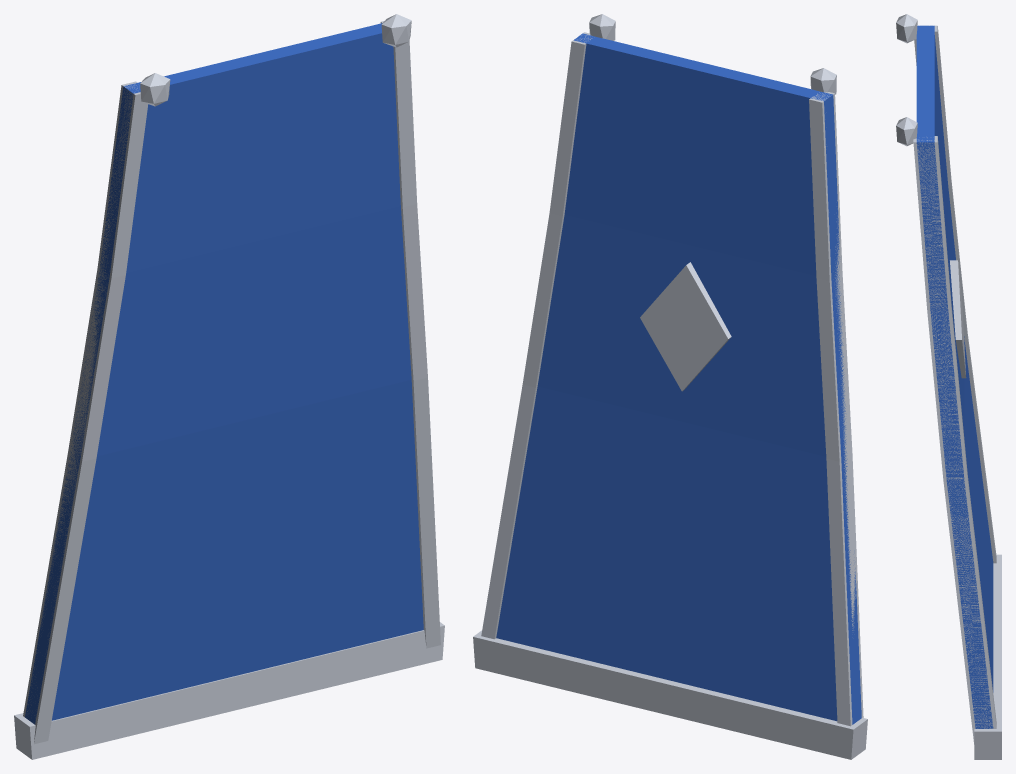
The model's file is gear_cape_defence.glb.
3 renders of one model, left to right at view 1: azimuth 30°, elevation 25°; view 2: azimuth 150°, elevation 25°; view 3: azimuth 270°, elevation 25°, orthographic. The views are drawn at different scales.
Parts seen in each view (by area): view 1: gear_cape_defence; view 2: gear_cape_defence; view 3: gear_cape_defence.
Boxes of the visible parts, box(x1,y1,x2,y2) form: gear_cape_defence: box(14, 14, 444, 759); gear_cape_defence: box(473, 14, 867, 759); gear_cape_defence: box(896, 14, 1001, 759).
Bounding box in the file's own units: 0.516 × 0.825 × 0.1304.
